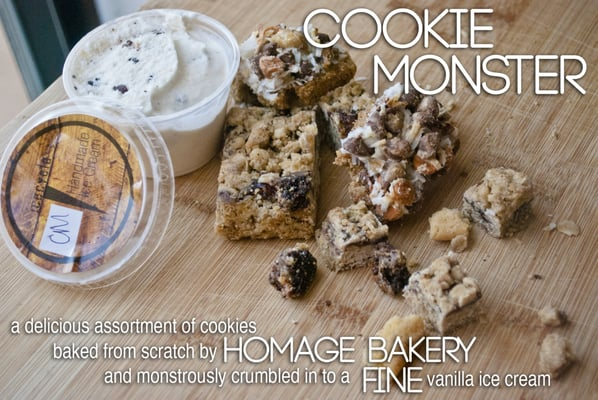pizza: (0, 10, 238, 289), (0, 86, 175, 289), (67, 9, 240, 175)
